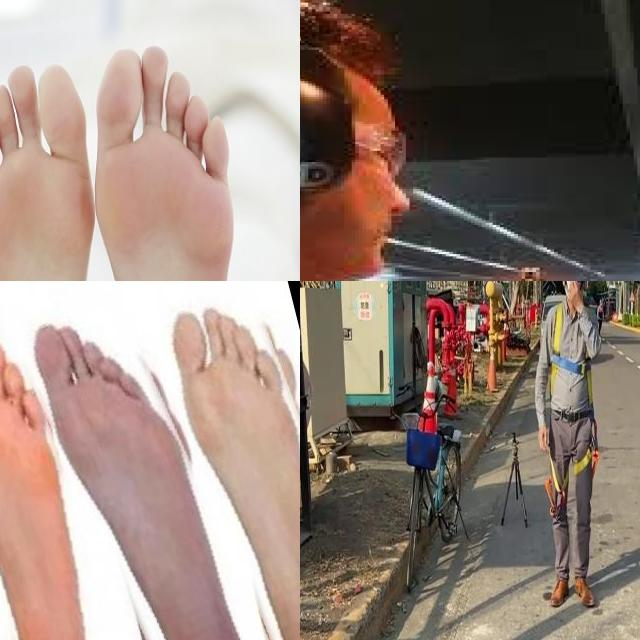Barefoots: (34, 317, 265, 640), (169, 305, 300, 640), (95, 35, 237, 281), (0, 324, 92, 640), (0, 69, 88, 281)
Ear-protection: (300, 33, 355, 211)
Harness: (550, 304, 593, 406), (545, 455, 569, 520)
person: (300, 0, 569, 281)
